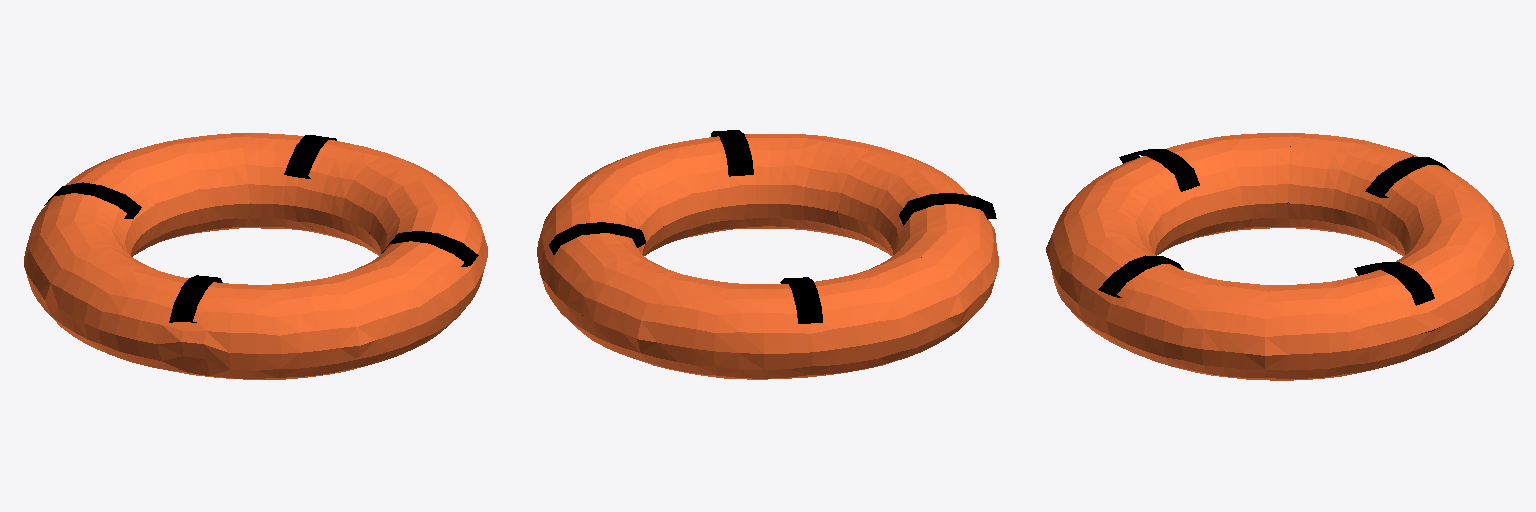
3 renders of one model, left to right at view 1: azimuth 30°, elevation 25°; view 2: azimuth 150°, elevation 25°; view 3: azimuth 270°, elevation 25°, orthographic.
Parts seen in each view (by area): view 1: iring_low_iring_high, strap_low_iring_high.001; view 2: iring_low_iring_high, strap_low_iring_high.001; view 3: iring_low_iring_high, strap_low_iring_high.001.
Boxes of the visible parts, x1,y1,x2,y2 form: iring_low_iring_high: [24, 133, 487, 379]; strap_low_iring_high.001: [44, 135, 478, 322]; iring_low_iring_high: [537, 134, 998, 379]; strap_low_iring_high.001: [549, 130, 996, 323]; iring_low_iring_high: [1046, 133, 1513, 380]; strap_low_iring_high.001: [1098, 149, 1449, 305].
Bounding box in the file's own units: 86.77 × 17.65 × 86.63.
Materials: 1 (1 with a texture image).